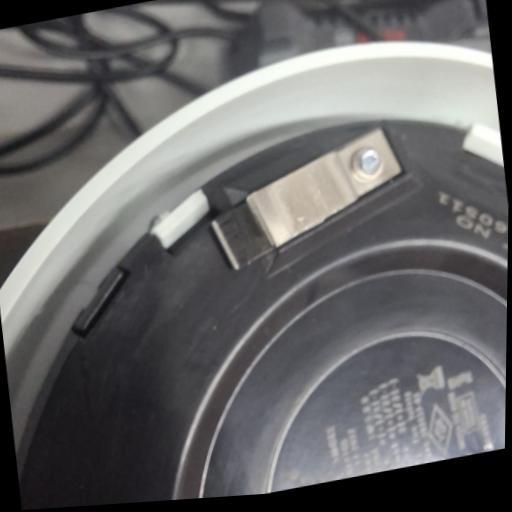yayli: (198, 119, 416, 277)
